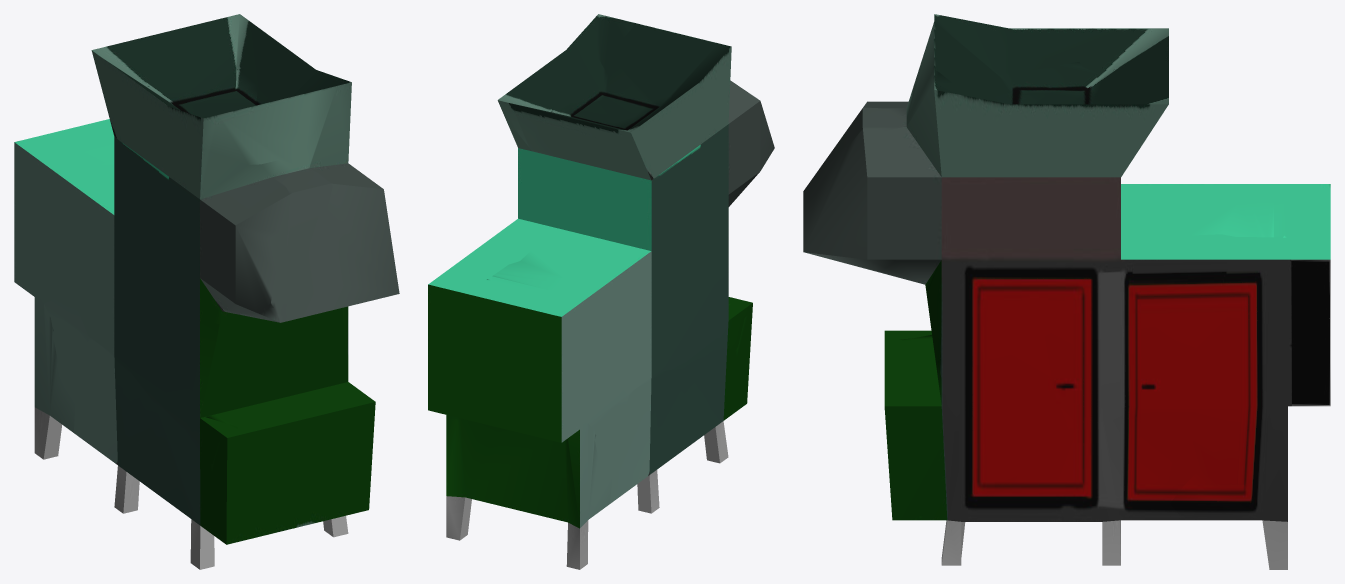
File: Crazy_Machine_Shatter.fbx
3 views of the same model, side by side, from view 1: azimuth 30°, elevation 25°; view 2: azimuth 150°, elevation 25°; view 3: azimuth 270°, elevation 25° (orthographic). The views are drawn at different scales.
Visible parts, largest first — view 1: shard14, shard20, shard10, shard16, shard18, shard17, shard2, shard12, shard4, shard1, shard8, shard5 (+6 smaller); view 2: shard2, shard11, shard14, shard16, shard20, shard17, shard4, shard6, shard9, shard19, shard8, shard15 (+4 smaller); view 3: shard6, shard3, shard8, shard19, shard9, shard18, shard16, shard5, shard11, shard2, shard14, shard1 (+1 smaller).
Part boxes in pixels (<box>): shard14: <box>93,57,294,322</box>; shard20: <box>42,265,257,464</box>; shard10: <box>156,404,374,544</box>; shard16: <box>91,22,307,167</box>; shard18: <box>306,75,399,315</box>; shard17: <box>50,317,214,569</box>; shard2: <box>14,126,259,337</box>; shard12: <box>227,326,346,483</box>; shard4: <box>14,156,130,291</box>; shard1: <box>230,92,332,322</box>; shard8: <box>205,14,330,105</box>; shard5: <box>274,337,375,437</box>; shard2: <box>520,160,728,331</box>; shard11: <box>446,418,613,569</box>; shard14: <box>551,74,771,231</box>; shard16: <box>529,23,731,153</box>; shard20: <box>587,234,752,397</box>; shard17: <box>594,367,728,513</box>; shard4: <box>480,278,666,404</box>; shard6: <box>433,195,611,335</box>; shard9: <box>428,129,574,334</box>; shard19: <box>428,333,550,440</box>; shard8: <box>497,35,608,159</box>; shard15: <box>517,371,670,442</box>; shard6: <box>926,202,1330,363</box>; shard3: <box>886,416,1196,565</box>; shard8: <box>879,86,1168,293</box>; shard19: <box>1045,317,1330,431</box>; shard9: <box>1005,150,1330,319</box>; shard18: <box>803,69,977,272</box>; shard16: <box>908,14,1168,115</box>; shard5: <box>884,336,1068,437</box>; shard11: <box>1143,413,1287,569</box>; shard2: <box>1121,184,1330,206</box>; shard14: <box>863,62,1104,119</box>; shard1: <box>803,67,978,205</box>.
Bounding box in the file's own units: 37.31 × 110 × 110.
2 materials, 1 textured.
